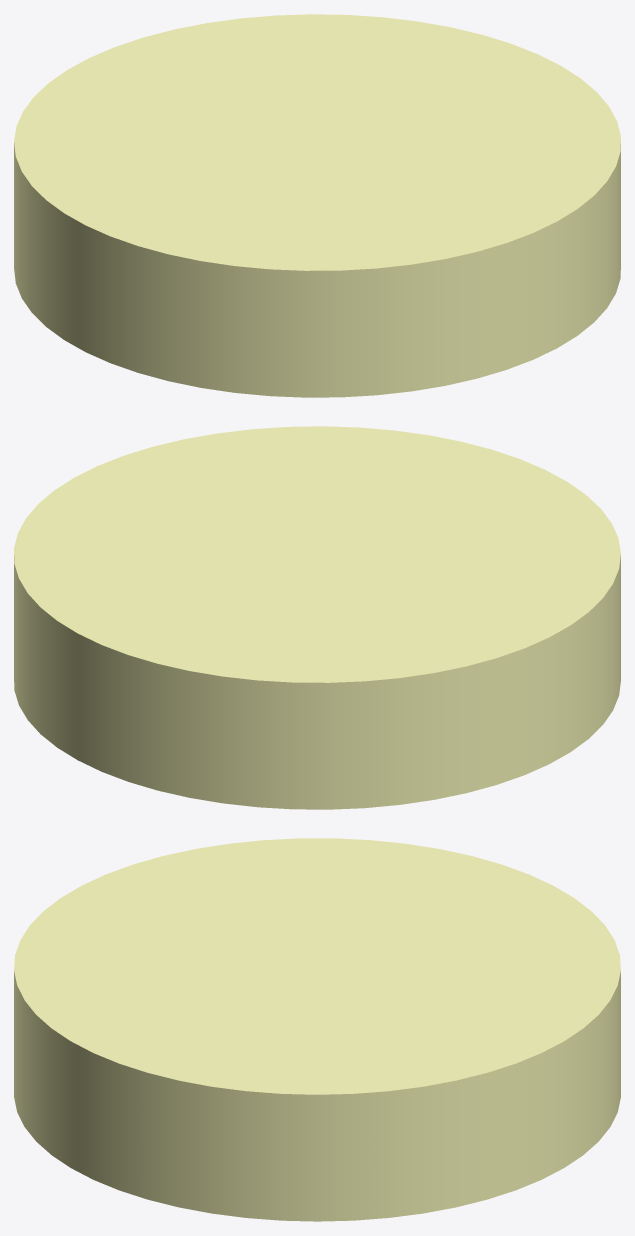
The picture shows the model from 3 angles, top to bottom: view 1: azimuth 30°, elevation 25°; view 2: azimuth 150°, elevation 25°; view 3: azimuth 270°, elevation 25°; orthographic projection.
Parts seen in each view (by area): view 1: root; view 2: root; view 3: root.
Boxes of the visible parts, bbox=[...] form: root: bbox=[14, 14, 620, 397]; root: bbox=[14, 426, 620, 809]; root: bbox=[14, 838, 620, 1221].
Size of the model in its own units: 0.0954 by 0.022 by 0.0954.
